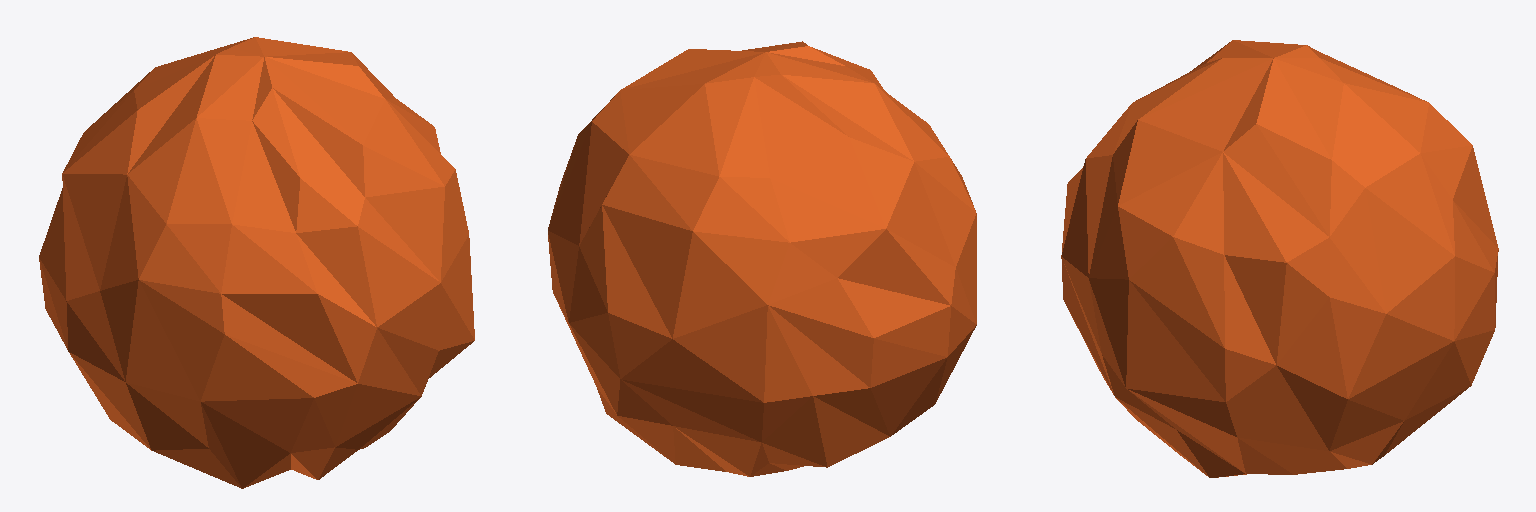
Rendered from sun.obj.
3 views of the same model, side by side, from view 1: azimuth 30°, elevation 25°; view 2: azimuth 150°, elevation 25°; view 3: azimuth 270°, elevation 25° (orthographic).
Visible parts, largest first — view 1: Sphere.1; view 2: Sphere.1; view 3: Sphere.1.
Part boxes in pixels (bbox=[...]): Sphere.1: bbox=[39, 37, 474, 488]; Sphere.1: bbox=[548, 41, 976, 476]; Sphere.1: bbox=[1061, 40, 1498, 477].
Size of the model in its own units: 497 by 511 by 505.